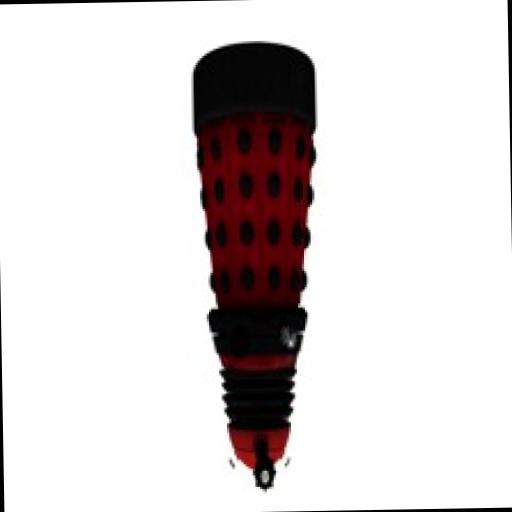dalek: (180, 42, 326, 492)
